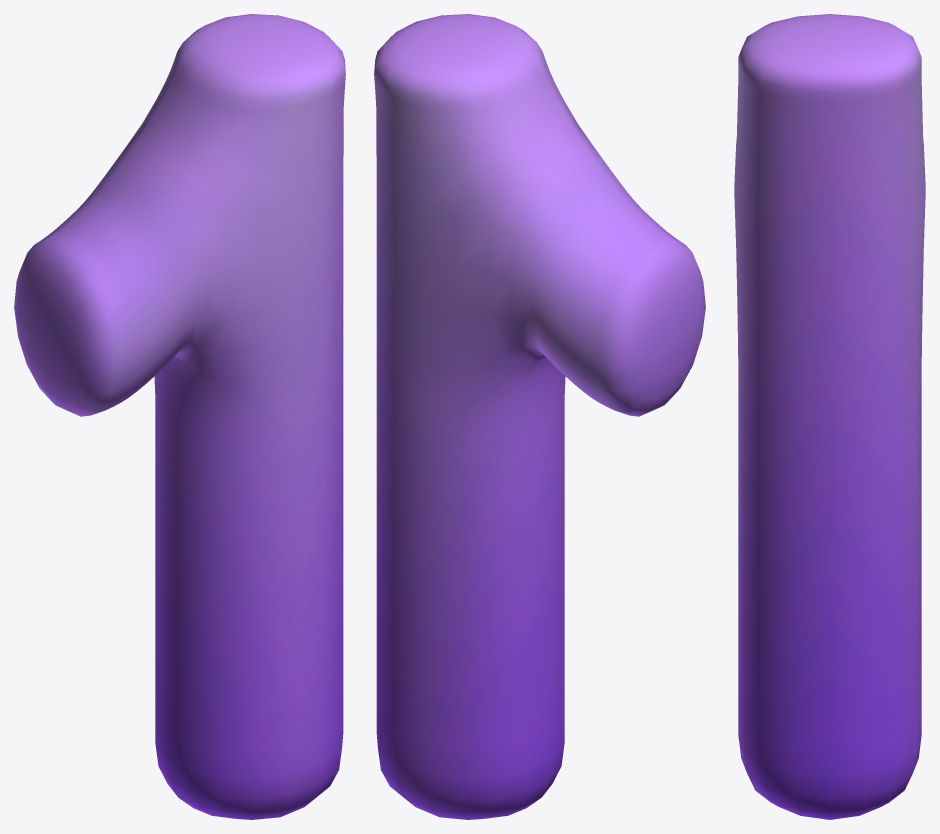
The picture shows the model from 3 angles, left to right: view 1: azimuth 30°, elevation 25°; view 2: azimuth 150°, elevation 25°; view 3: azimuth 270°, elevation 25°; orthographic projection.
Parts seen in each view (by area): view 1: node_id232; view 2: node_id232; view 3: node_id232.
Part boxes in pixels (x1,y1,x2,y2): node_id232: [14, 14, 345, 819]; node_id232: [374, 14, 705, 819]; node_id232: [734, 14, 925, 819].
Bounding box in the file's own units: 0.1907 × 0.4833 × 0.1078.
Materials: 1 (1 with a texture image).
